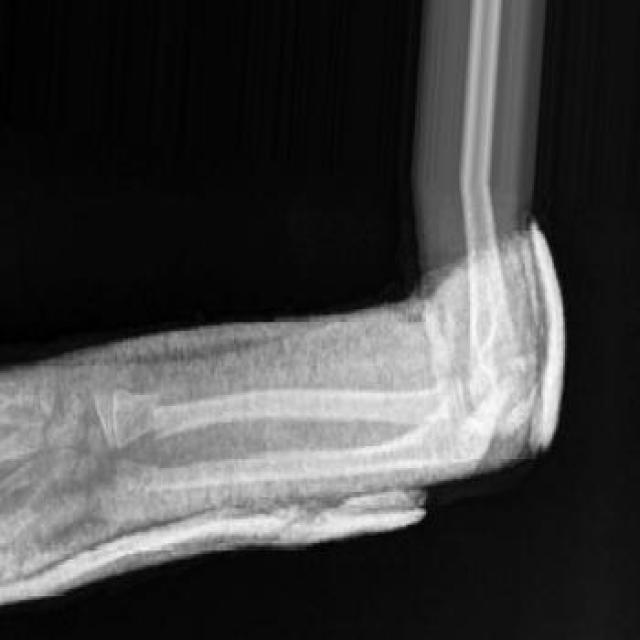Fracture: (144, 383, 167, 447)
